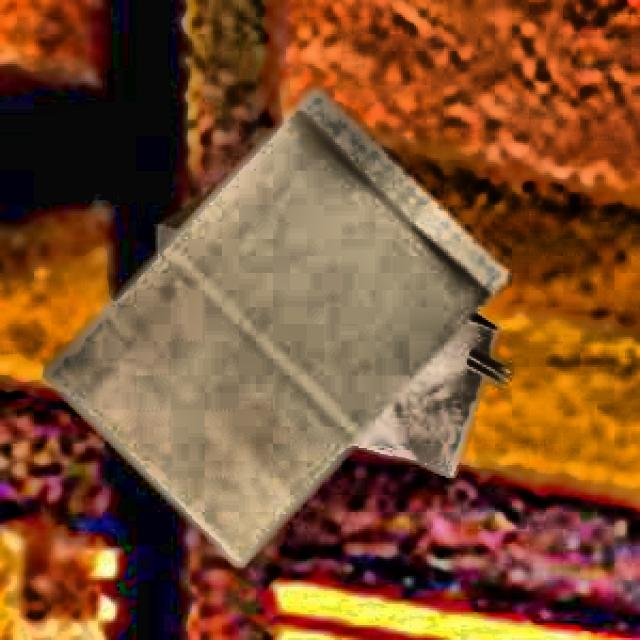Paper-bag: (44, 78, 515, 574), (130, 225, 516, 502)
